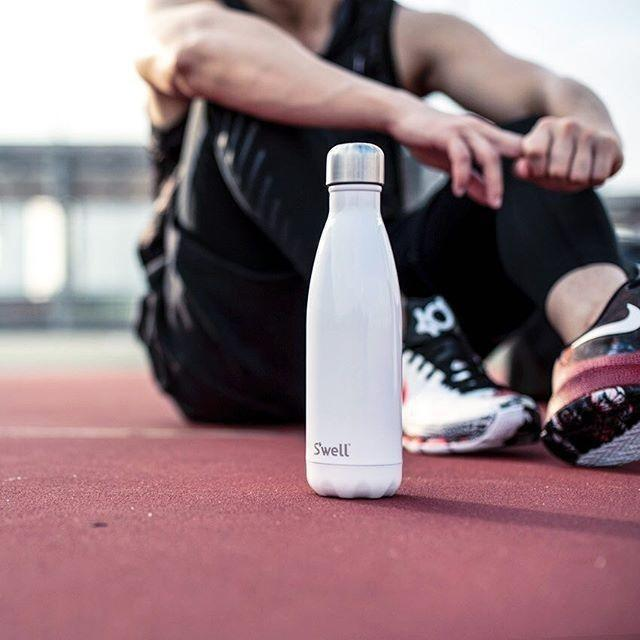gym bottle: (299, 139, 406, 505)
